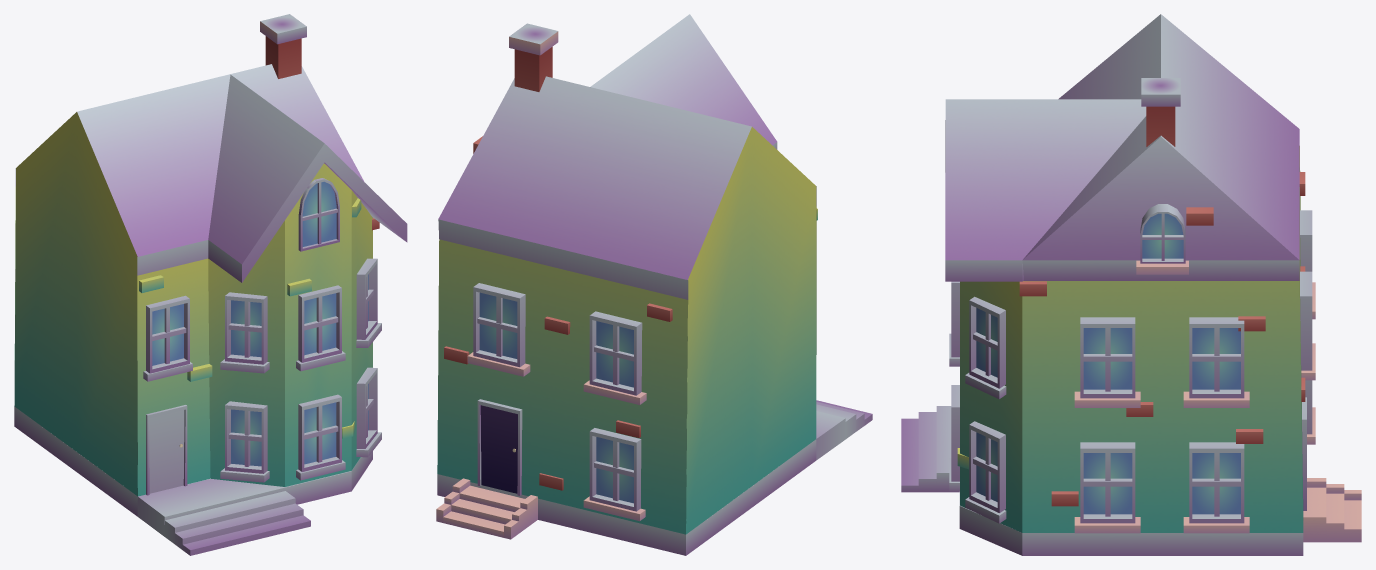
Rendered from SM_House_R_Short_BackDoor_01.fbx.
3 views of the same model, side by side, from view 1: azimuth 30°, elevation 25°; view 2: azimuth 150°, elevation 25°; view 3: azimuth 270°, elevation 25° (orthographic). The views are drawn at different scales.
Parts seen in each view (by area): view 1: SM_House_R_Short_BackDoor_01; view 2: SM_House_R_Short_BackDoor_01; view 3: SM_House_R_Short_BackDoor_01.
Boxes of the visible parts, bbox=[...] form: SM_House_R_Short_BackDoor_01: bbox=[14, 14, 407, 555]; SM_House_R_Short_BackDoor_01: bbox=[436, 14, 872, 555]; SM_House_R_Short_BackDoor_01: bbox=[901, 14, 1361, 555].
Size of the model in its own units: 7.24 by 10.08 by 10.97.
